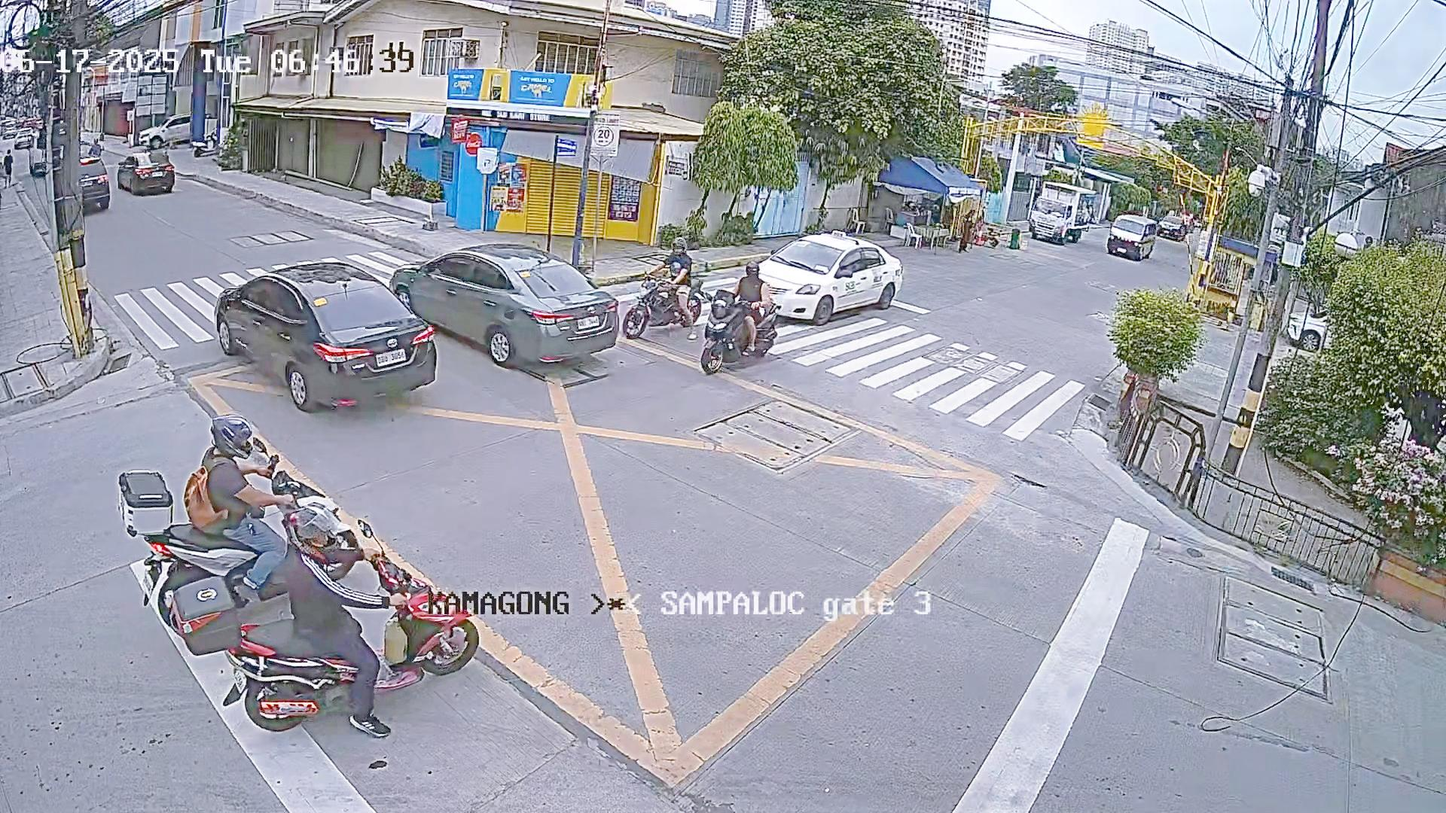Car: (163, 226, 496, 413), (378, 196, 619, 404), (740, 215, 950, 313), (66, 147, 151, 223), (114, 145, 199, 211), (1104, 192, 1169, 271)
Motor: (195, 475, 548, 711), (133, 395, 374, 632), (610, 216, 716, 353), (696, 251, 798, 375)
